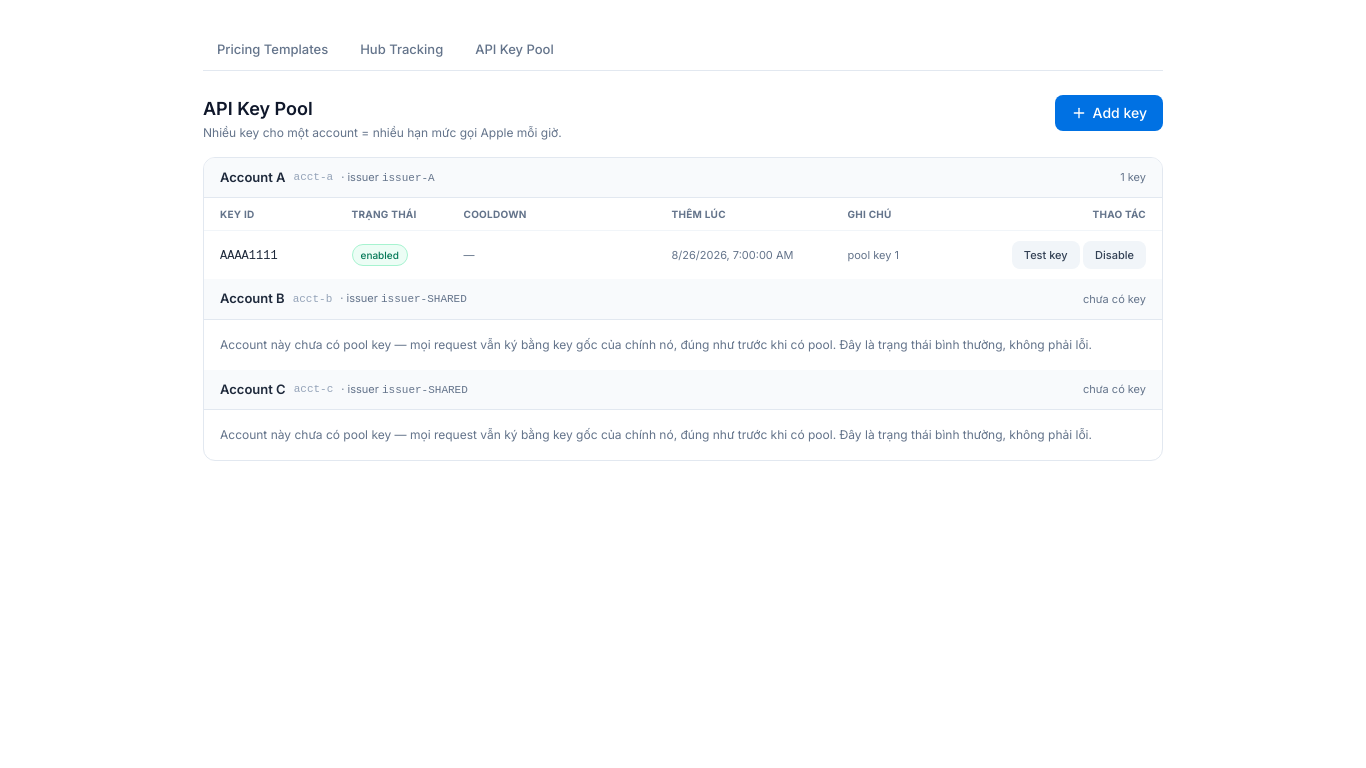
⚠ (a) the private key does not stay in client state › rejects a non-PEM paste before sending anything
Expected: the row with test id "key-row-AAAA1111" is shown, [204,230,1162,279]
Step 1. Click the button with test id "open-add" → {"x": 1109, "y": 112}, box [1055,94,1163,130]
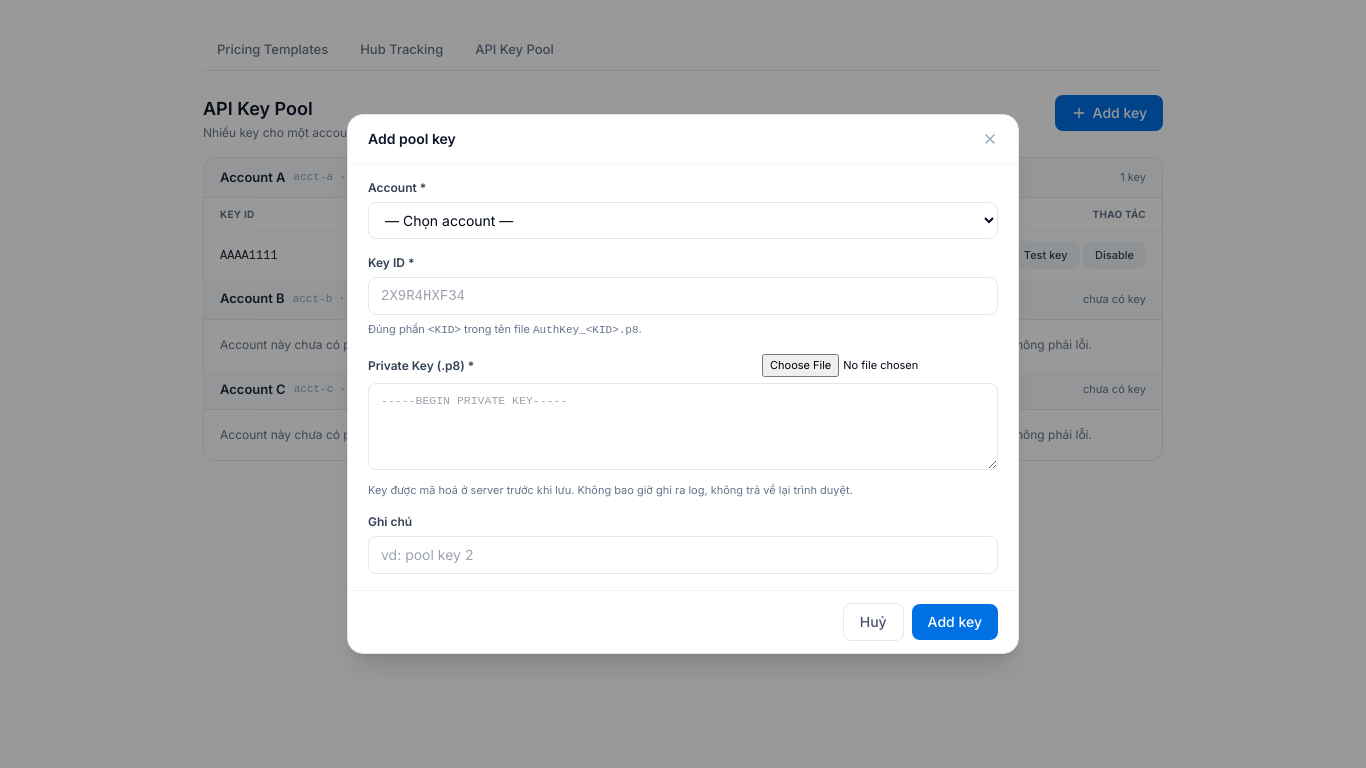
Step 2. Select "Account A · acct-a · issuer issuer-A" in the dropdown with test id "account-select" → {"x": 683, "y": 220}, box [368,202,998,239]
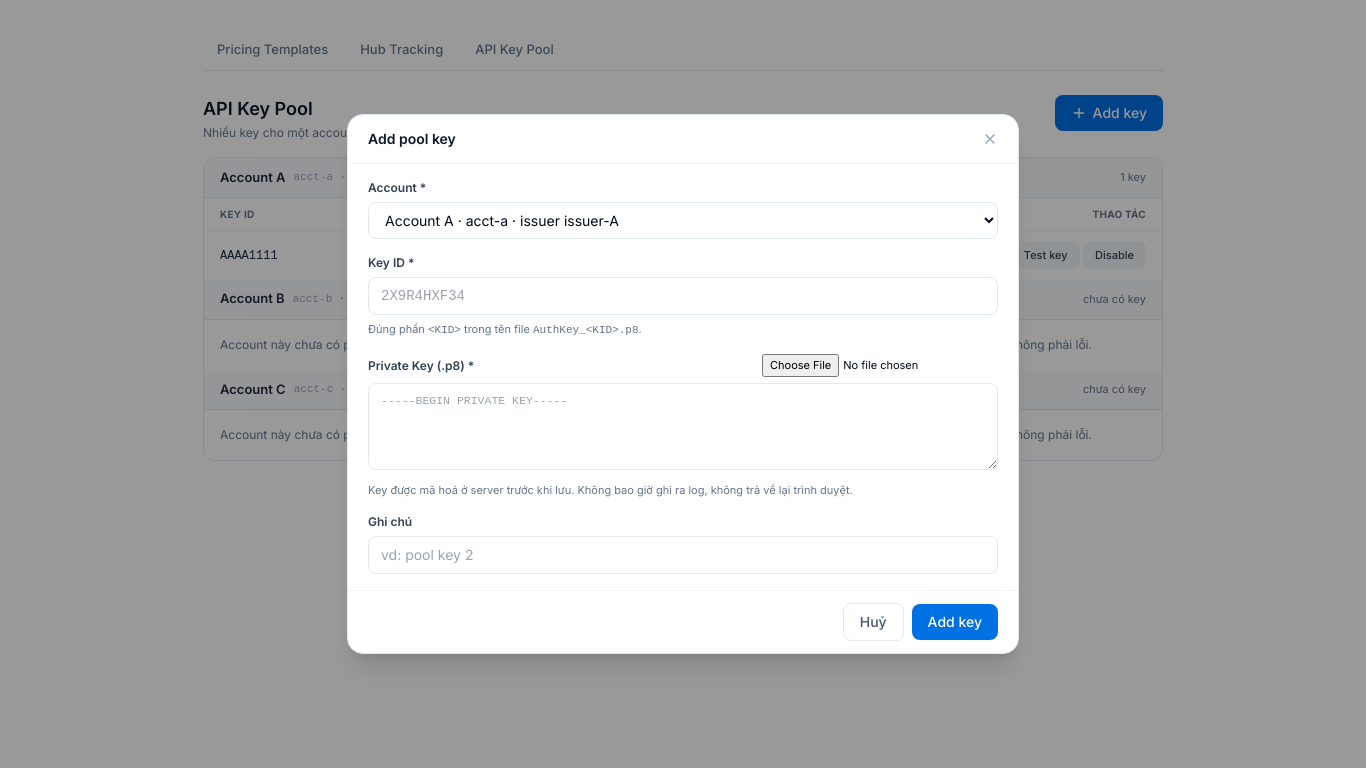
Step 3. Type "K" into the field with test id "key-id-input" → {"x": 683, "y": 296}, box [368,277,998,315]
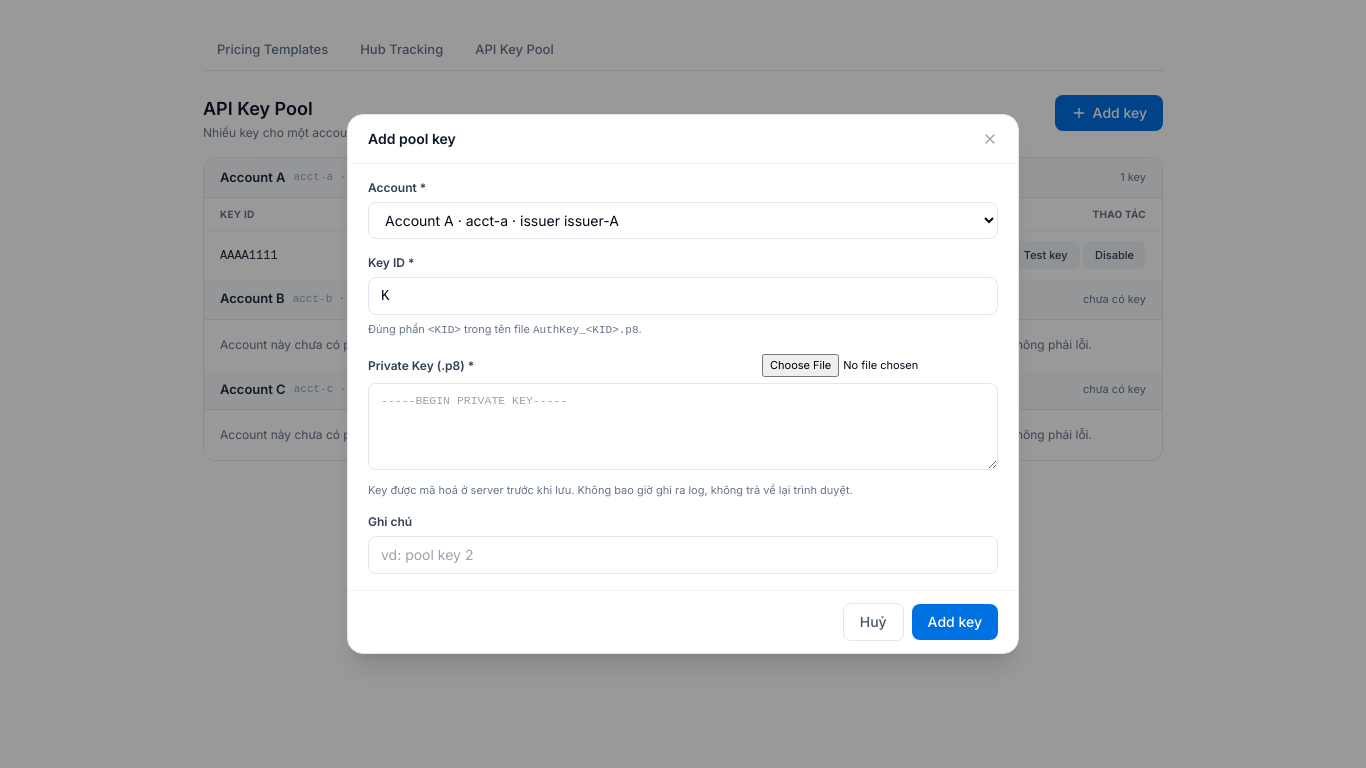
Step 4. Type "nope" into the text box with test id "p8-input" → {"x": 683, "y": 426}, box [368,383,998,470]
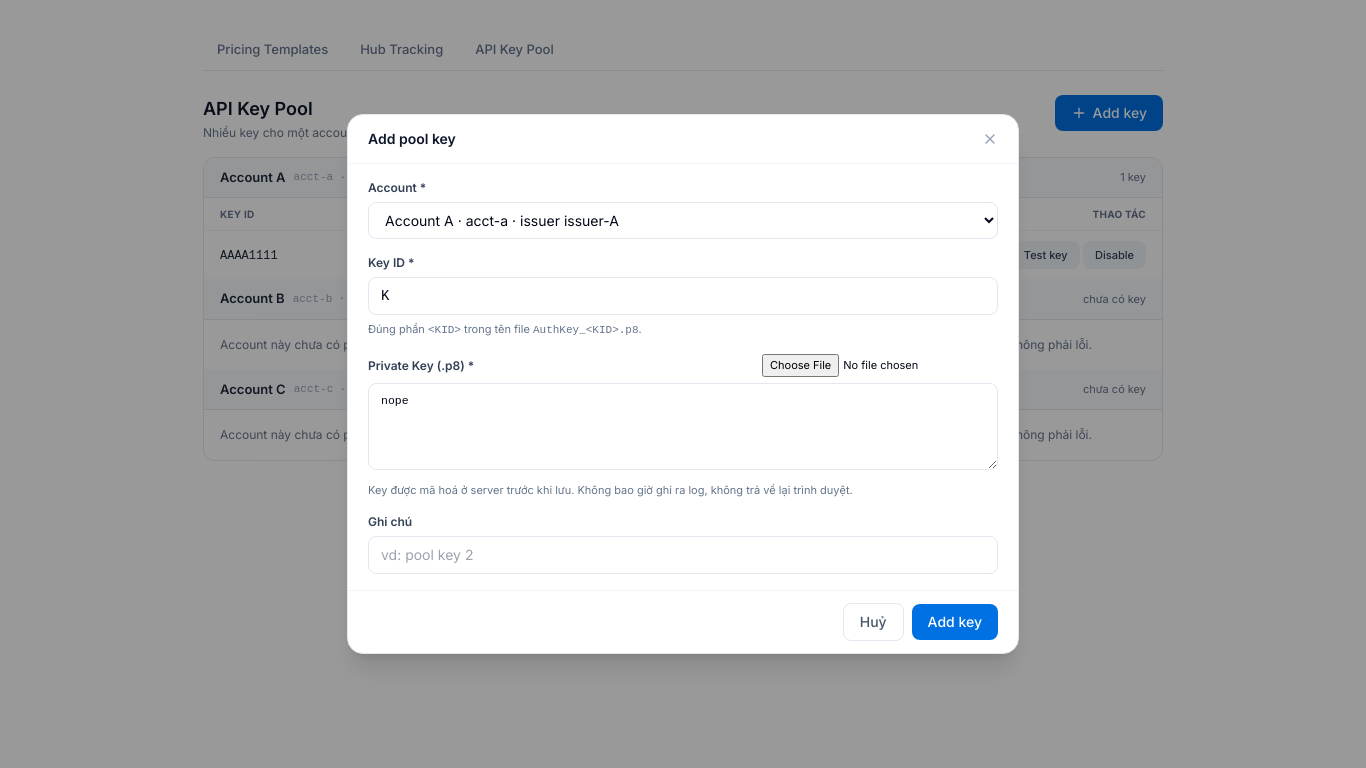
Step 5. Click the button with test id "submit-add" → {"x": 955, "y": 622}, box [912,604,998,640]
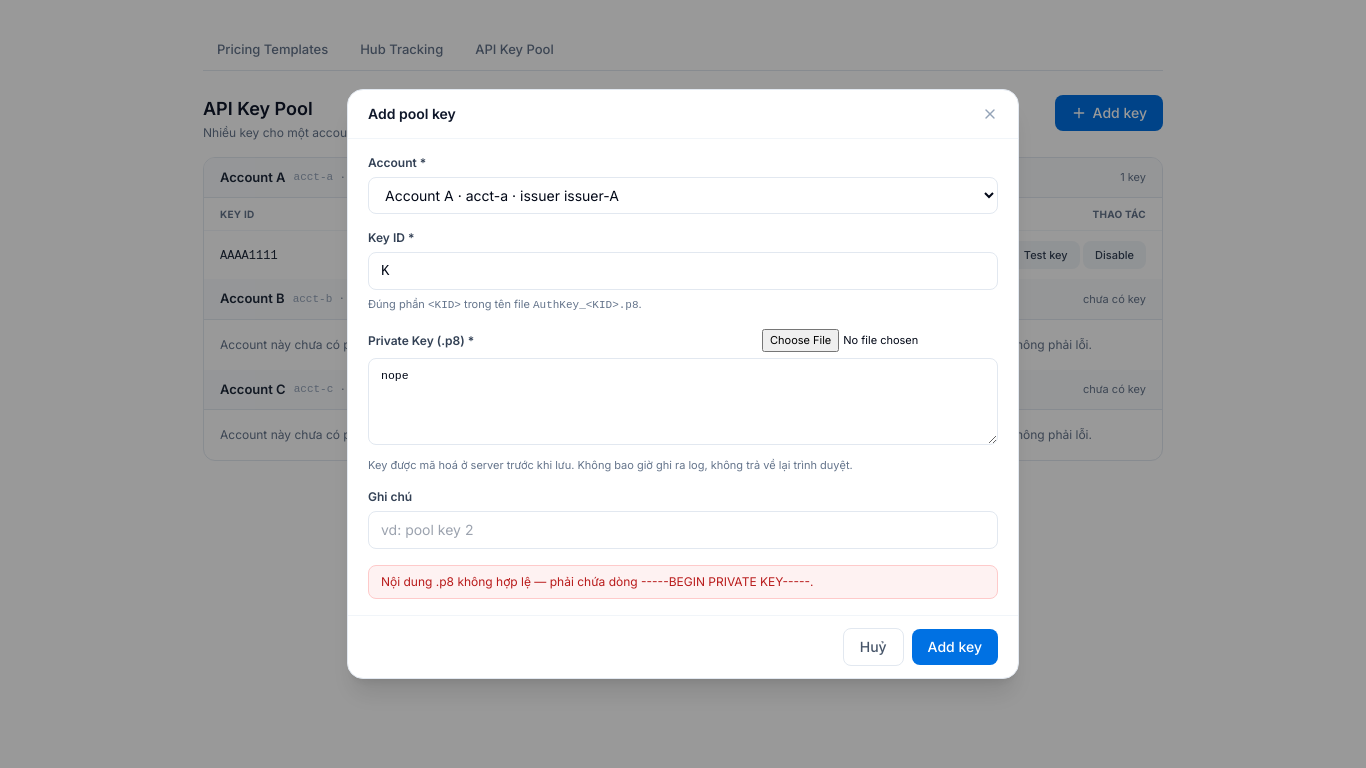
Expected: the text with test id "form-error" shows "BEGIN PRIVATE KEY", [381,574,814,589]
